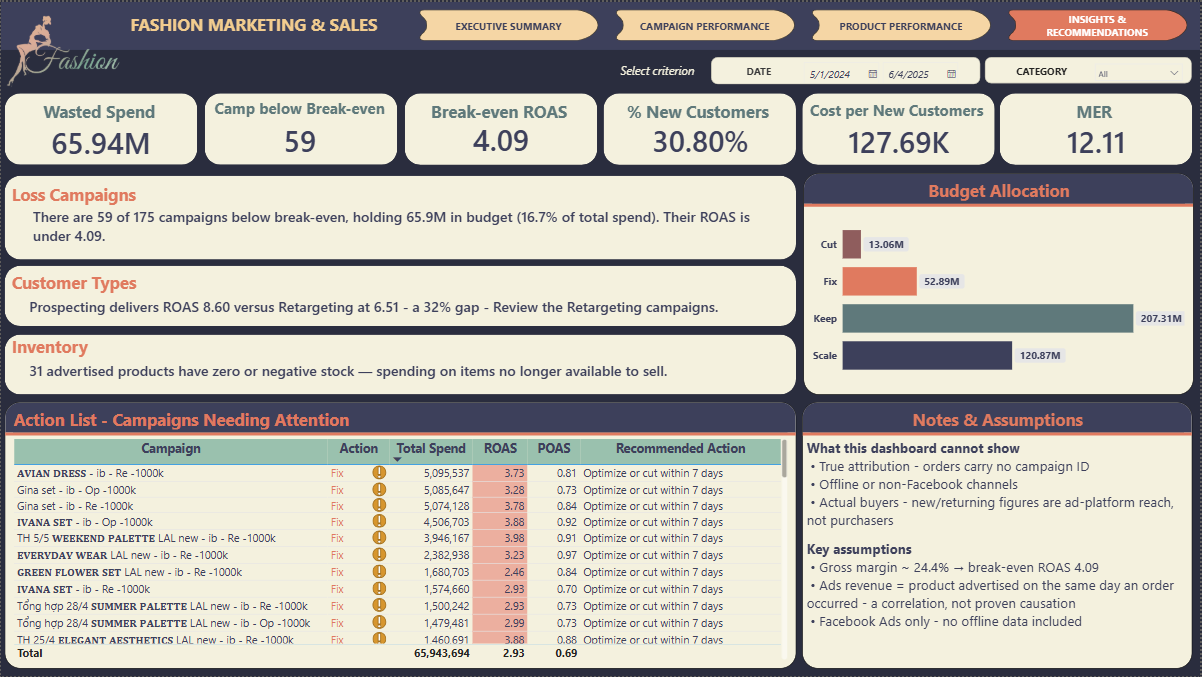

The page's visual inventory and layout, read from the dashboard file:
{"tool":"powerbi","page":{"name":"INSIGHTS & RECOMMENDATIONS","canvas":[1920,1080],"ordinal":3},"visuals":[{"type":"shape","box":[0,0,1920,76.7],"z":0},{"type":"shape","box":[1136.5,88.7,431,43.6],"z":0,"group":"g3"},{"type":"pageNavigator","box":[662,12,1244,50],"z":1000},{"type":"textbox","box":[1151.8,94.1,121.1,32.3],"z":1000,"group":"g3"},{"type":"shape","box":[645.4,146.7,308,114.7],"z":1000,"group":"g5"},{"type":"shape","box":[1282.9,146.7,308,114.7],"z":1000,"group":"g6"},{"type":"shape","box":[1597.8,146.7,308,114.7],"z":1000,"group":"g7"},{"type":"shape","box":[324.5,146.9,308,114.3],"z":1000,"group":"g8"},{"type":"shape","box":[963.8,147.1,307.9,114.7],"z":1000,"group":"g9"},{"type":"shape","box":[6,147.4,308,114.4],"z":1000,"group":"g10"},{"type":"shape","box":[6,278,1266,134],"z":1000,"group":"g12"},{"type":"shape","box":[6,422,1266,96.6],"z":1000,"group":"g13"},{"type":"shape","box":[6,531,1266,96],"z":1000,"group":"g2"},{"type":"textbox","box":[985.5,91.6,141.1,40],"z":2000},{"type":"slicer","fields":{"Values":["Dim_Date.Date"]},"box":[1272,91.7,279.9,37.9],"z":2000,"group":"g3"},{"type":"shape","box":[1575.4,88.7,331.1,42.2],"z":3000,"group":"g3"},{"type":"group","id":"g1","title":"Group 3","box":[6,278,1266,136],"z":3000},{"type":"textbox","box":[1582,93.7,166.3,32.6],"z":4000,"group":"g3"},{"type":"group","id":"g2","title":"Group 1","box":[6,527,1266,100],"z":4000},{"type":"group","id":"g3","title":"Group 6","box":[1136.5,88.7,770,42.9],"z":5000},{"type":"slicer","fields":{"Values":["Dim_Product.Danh mục"]},"box":[1741.2,93.7,160,35.6],"z":5000,"group":"g3"},{"type":"textbox","box":[317.2,148.1,319.8,63.1],"z":5000,"group":"g8"},{"type":"textbox","box":[639.4,153.5,314.1,52.5],"z":5000,"group":"g5"},{"type":"textbox","box":[1276.9,153.5,314.1,52.5],"z":5000,"group":"g6"},{"type":"textbox","box":[1591.8,153.5,314.1,52.5],"z":5000,"group":"g7"},{"type":"textbox","box":[957.8,153.9,314,52.5],"z":5000,"group":"g9"},{"type":"textbox","box":[0,154.2,314.1,52.3],"z":5000,"group":"g10"},{"type":"textbox","box":[12,284.9,1260,64.1],"z":5000,"group":"g12"},{"type":"textbox","box":[12,427,1260,46.2],"z":5000,"group":"g13"},{"type":"textbox","box":[12,527,1260,46.2],"z":5000,"group":"g2"},{"type":"group","id":"g4","title":"Group 4","box":[0,146.7,1906.7,116.7],"z":6000},{"type":"group","id":"g5","title":"Group 1","box":[639.4,146.7,314.1,114.7],"z":6000,"group":"g18"},{"type":"group","id":"g6","title":"Group 1","box":[1276.9,146.7,314.1,114.7],"z":6000,"group":"g19"},{"type":"group","id":"g7","title":"Group 1","box":[1591.8,146.7,314.1,114.7],"z":6000,"group":"g20"},{"type":"group","id":"g8","title":"Group 1","box":[317.2,146.9,319.8,114.7],"z":6000,"group":"g15"},{"type":"group","id":"g9","title":"Group 1","box":[957.8,147.1,315.3,115.1],"z":6000,"group":"g16"},{"type":"group","id":"g10","title":"Group 1","box":[0,147.4,314.8,115.9],"z":6000,"group":"g11"},{"type":"group","id":"g11","title":"Group 3","box":[0,147.4,314.8,115.9],"z":6000,"group":"g4"},{"type":"group","id":"g12","title":"Group 1","box":[6,278,1266,136],"z":6000,"group":"g1"},{"type":"group","id":"g13","title":"Group 1","box":[6,422,1266,98],"z":6000,"group":"g14"},{"type":"group","id":"g14","title":"Group 3","box":[6,422,1266,98],"z":7000},{"type":"clusteredBarChart","title":"Budget Allocation","fields":{"Category":["Dim_Camp_Cost.Action Bucket Col"],"Y":["_Measures.Total Spend"]},"box":[1284,274,624,354],"z":8000},{"type":"tableEx","title":"Action List - Campaigns Needing Attention","fields":{"Values":["Dim_Camp_Cost.Tên chiến dịch","Dim_Camp_Cost.Action Bucket Col","_Measures.Total Spend","_Measures.ROAS (Return on Ads Spend)","_Measures.POAS","_Measures.Recommended Action"]},"box":[6,640,1266,426],"z":9000},{"type":"group","id":"g15","title":"Group 3","box":[317.2,146.9,319.8,114.7],"z":10000,"group":"g4"},{"type":"clusteredBarChart","title":"Notes & Assumptions","fields":{"Category":["Dim_Camp_Cost.Action Bucket Col"]},"box":[1282,640,624,426],"z":10000},{"type":"group","id":"g16","title":"Group 3","box":[957.8,147.1,316,114.1],"z":11000,"group":"g4"},{"type":"textbox","box":[1284,694,618,352],"z":11000},{"type":"group","id":"g17","title":"Group 5","box":[0,12.8,623.6,133.9],"z":11001},{"type":"textbox","box":[201.8,12.8,421.9,47.7],"z":12000,"group":"g17"},{"type":"group","id":"g18","title":"Group 3","box":[639.4,146.7,314.8,114.8],"z":12000,"group":"g4"},{"type":"image","box":[0,12.8,201.8,133.9],"z":13000,"group":"g17"},{"type":"group","id":"g19","title":"Group 3","box":[1276.9,146.7,313.4,113.7],"z":13000,"group":"g4"},{"type":"group","id":"g20","title":"Group 3","box":[1591.8,146.7,314.8,114.8],"z":14000,"group":"g4"},{"type":"cardVisual","fields":{"Data":["_Measures.Campaigns Below Break-even"]},"box":[325.5,179.4,305.5,82.2],"z":16000,"group":"g8"},{"type":"cardVisual","fields":{"Data":["_Measures.Break-even ROAS"]},"box":[645.4,179.4,308.1,81.4],"z":16000,"group":"g5"},{"type":"cardVisual","fields":{"Data":["_Measures.% New Customers"]},"box":[965.1,179.8,308,82.4],"z":16000,"group":"g9"},{"type":"cardVisual","fields":{"Data":["_Measures.Cost per New Customer"]},"box":[1284.5,179.9,305.5,81.4],"z":16000,"group":"g6"},{"type":"cardVisual","fields":{"Data":["_Measures.MER"]},"box":[1599.4,179.9,305.5,81.4],"z":16000,"group":"g7"},{"type":"cardVisual","fields":{"Data":["_Measures.Wasted Spend"]},"box":[8.9,184.6,304.3,78.2],"z":16000,"group":"g10"},{"type":"cardVisual","fields":{"Data":["_Measures.Insight Wasted"]},"box":[46,298,1222,116],"z":16000,"group":"g12"},{"type":"cardVisual","fields":{"Data":["_Measures.Insight Audience"]},"box":[40,450,1228,70],"z":16000,"group":"g13"},{"type":"cardVisual","fields":{"Data":["_Measures.Insight Stock"]},"box":[40,550,1228,70],"z":16000,"group":"g2"}]}

Visuals, with their boxes in screenshot pixels (x1, y1, x2, y2), scaled from the page's 1920x1080 canvas onto the 1202x677 screenshot:
shape: 0, 0, 1201, 48
shape: 711, 56, 981, 83
pageNavigator: 414, 8, 1193, 39
textbox: 721, 59, 797, 79
shape: 404, 92, 597, 164
shape: 803, 92, 996, 164
shape: 1000, 92, 1193, 164
shape: 203, 92, 396, 164
shape: 603, 92, 796, 164
shape: 4, 92, 197, 164
shape: 4, 174, 796, 258
shape: 4, 265, 796, 325
shape: 4, 333, 796, 393
textbox: 617, 57, 705, 82
slicer - Dim_Date.Date: 796, 57, 972, 81
shape: 986, 56, 1194, 82
"Group 3" group: 4, 174, 796, 260
textbox: 990, 59, 1095, 79
"Group 1" group: 4, 330, 796, 393
"Group 6" group: 711, 56, 1194, 82
slicer - Dim_Product.Danh mục: 1090, 59, 1190, 81
textbox: 199, 93, 399, 132
textbox: 400, 96, 597, 129
textbox: 799, 96, 996, 129
textbox: 997, 96, 1193, 129
textbox: 600, 96, 796, 129
textbox: 0, 97, 197, 129
textbox: 8, 179, 796, 219
textbox: 8, 268, 796, 297
textbox: 8, 330, 796, 359
"Group 4" group: 0, 92, 1194, 165
"Group 1" group: 400, 92, 597, 164
"Group 1" group: 799, 92, 996, 164
"Group 1" group: 997, 92, 1193, 164
"Group 1" group: 199, 92, 399, 164
"Group 1" group: 600, 92, 797, 164
"Group 1" group: 0, 92, 197, 165
"Group 3" group: 0, 92, 197, 165
"Group 1" group: 4, 174, 796, 260
"Group 1" group: 4, 265, 796, 326
"Group 3" group: 4, 265, 796, 326
"Budget Allocation" clusteredBarChart: 804, 172, 1194, 394
"Action List - Campaigns Needing Attention" tableEx: 4, 401, 796, 668
"Group 3" group: 199, 92, 399, 164
"Notes & Assumptions" clusteredBarChart: 803, 401, 1193, 668
"Group 3" group: 600, 92, 797, 164
textbox: 804, 435, 1191, 656
"Group 5" group: 0, 8, 390, 92
textbox: 126, 8, 390, 38
"Group 3" group: 400, 92, 597, 164
image: 0, 8, 126, 92
"Group 3" group: 799, 92, 996, 163
"Group 3" group: 997, 92, 1194, 164
cardVisual - _Measures.Campaigns Below Break-even: 204, 112, 395, 164
cardVisual - _Measures.Break-even ROAS: 404, 112, 597, 163
cardVisual - _Measures.% New Customers: 604, 113, 797, 164
cardVisual - _Measures.Cost per New Customer: 804, 113, 995, 164
cardVisual - _Measures.MER: 1001, 113, 1193, 164
cardVisual - _Measures.Wasted Spend: 6, 116, 196, 165
cardVisual - _Measures.Insight Wasted: 29, 187, 794, 260
cardVisual - _Measures.Insight Audience: 25, 282, 794, 326
cardVisual - _Measures.Insight Stock: 25, 345, 794, 389
